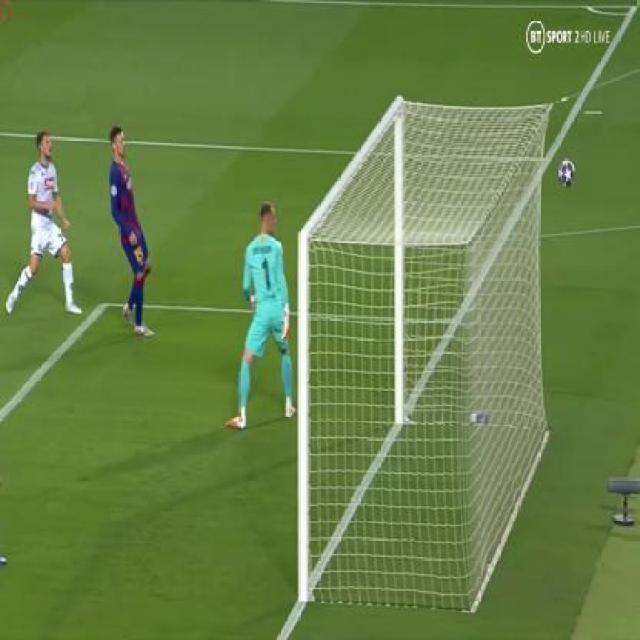ball: (554, 154, 579, 190)
player: (221, 201, 303, 432), (5, 129, 84, 320), (96, 119, 156, 335)
